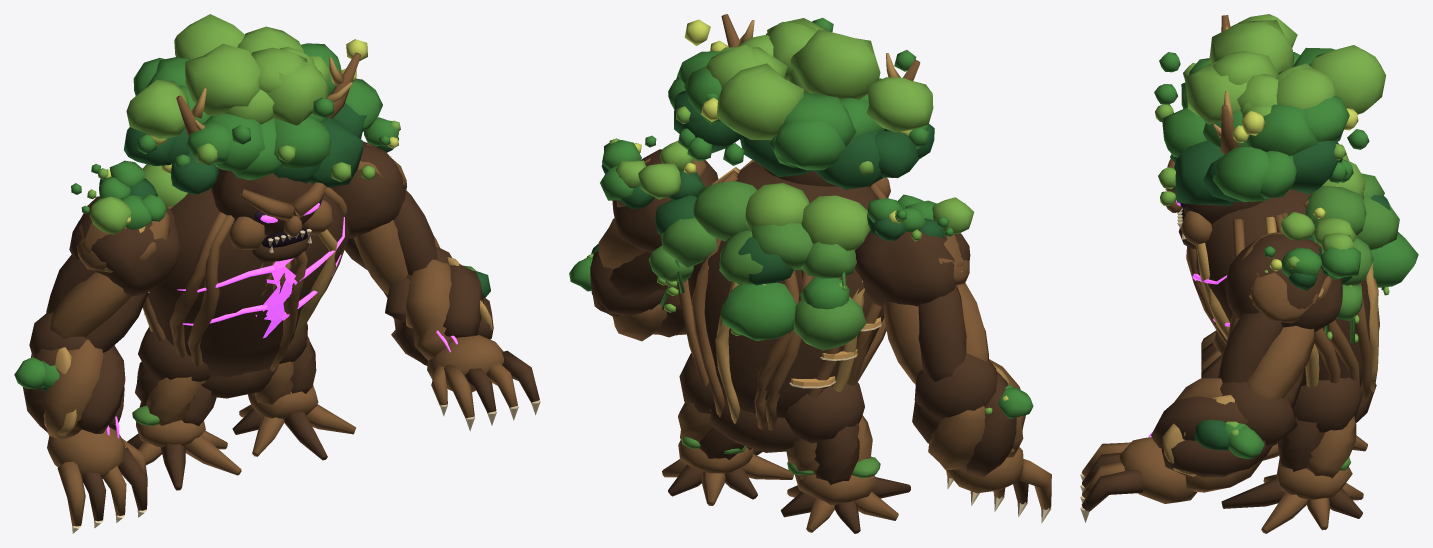
The model's file is bark-king.glb.
3 views of the same model, side by side, from view 1: azimuth 30°, elevation 25°; view 2: azimuth 150°, elevation 25°; view 3: azimuth 270°, elevation 25° (orthographic). The views are drawn at different scales.
Visible parts, largest first — view 1: Head / face, antlers, leaf crown, Body / trunk with heart fissure, Arm R / shoulder and upper arm, Arm R / forearm and root fist, Legs / root feet, Arm L / forearm and root fist, Arm L / shoulder and upper arm; view 2: Body / trunk with heart fissure, Head / face, antlers, leaf crown, Legs / root feet, Arm R / shoulder and upper arm, Arm R / forearm and root fist, Arm L / shoulder and upper arm, Arm L / forearm and root fist; view 3: Head / face, antlers, leaf crown, Body / trunk with heart fissure, Arm L / shoulder and upper arm, Arm L / forearm and root fist, Legs / root feet, Arm R / forearm and root fist.
Boxes of the visible parts, bbox=[...] form: Head / face, antlers, leaf crown: bbox=[124, 14, 382, 296]; Body / trunk with heart fissure: bbox=[142, 164, 349, 398]; Arm R / shoulder and upper arm: bbox=[46, 160, 181, 352]; Arm R / forearm and root fist: bbox=[14, 312, 147, 533]; Legs / root feet: bbox=[127, 323, 356, 490]; Arm L / forearm and root fist: bbox=[384, 247, 540, 431]; Arm L / shoulder and upper arm: bbox=[330, 117, 439, 294]; Body / trunk with heart fissure: bbox=[648, 160, 886, 452]; Head / face, antlers, leaf crown: bbox=[668, 14, 934, 197]; Legs / root feet: bbox=[662, 353, 910, 533]; Arm R / shoulder and upper arm: bbox=[855, 194, 988, 384]; Arm R / forearm and root fist: bbox=[912, 353, 1051, 523]; Arm L / shoulder and upper arm: bbox=[598, 135, 718, 298]; Arm L / forearm and root fist: bbox=[569, 244, 686, 341]; Head / face, antlers, leaf crown: bbox=[1154, 14, 1386, 249]; Body / trunk with heart fissure: bbox=[1186, 146, 1418, 422]; Arm L / shoulder and upper arm: bbox=[1218, 207, 1360, 408]; Arm L / forearm and root fist: bbox=[1080, 378, 1297, 522]; Legs / root feet: bbox=[1221, 377, 1367, 533]; Arm R / forearm and root fist: bbox=[1201, 330, 1226, 378].
Size of the model in its own units: 5.57 by 5.11 by 3.48.
